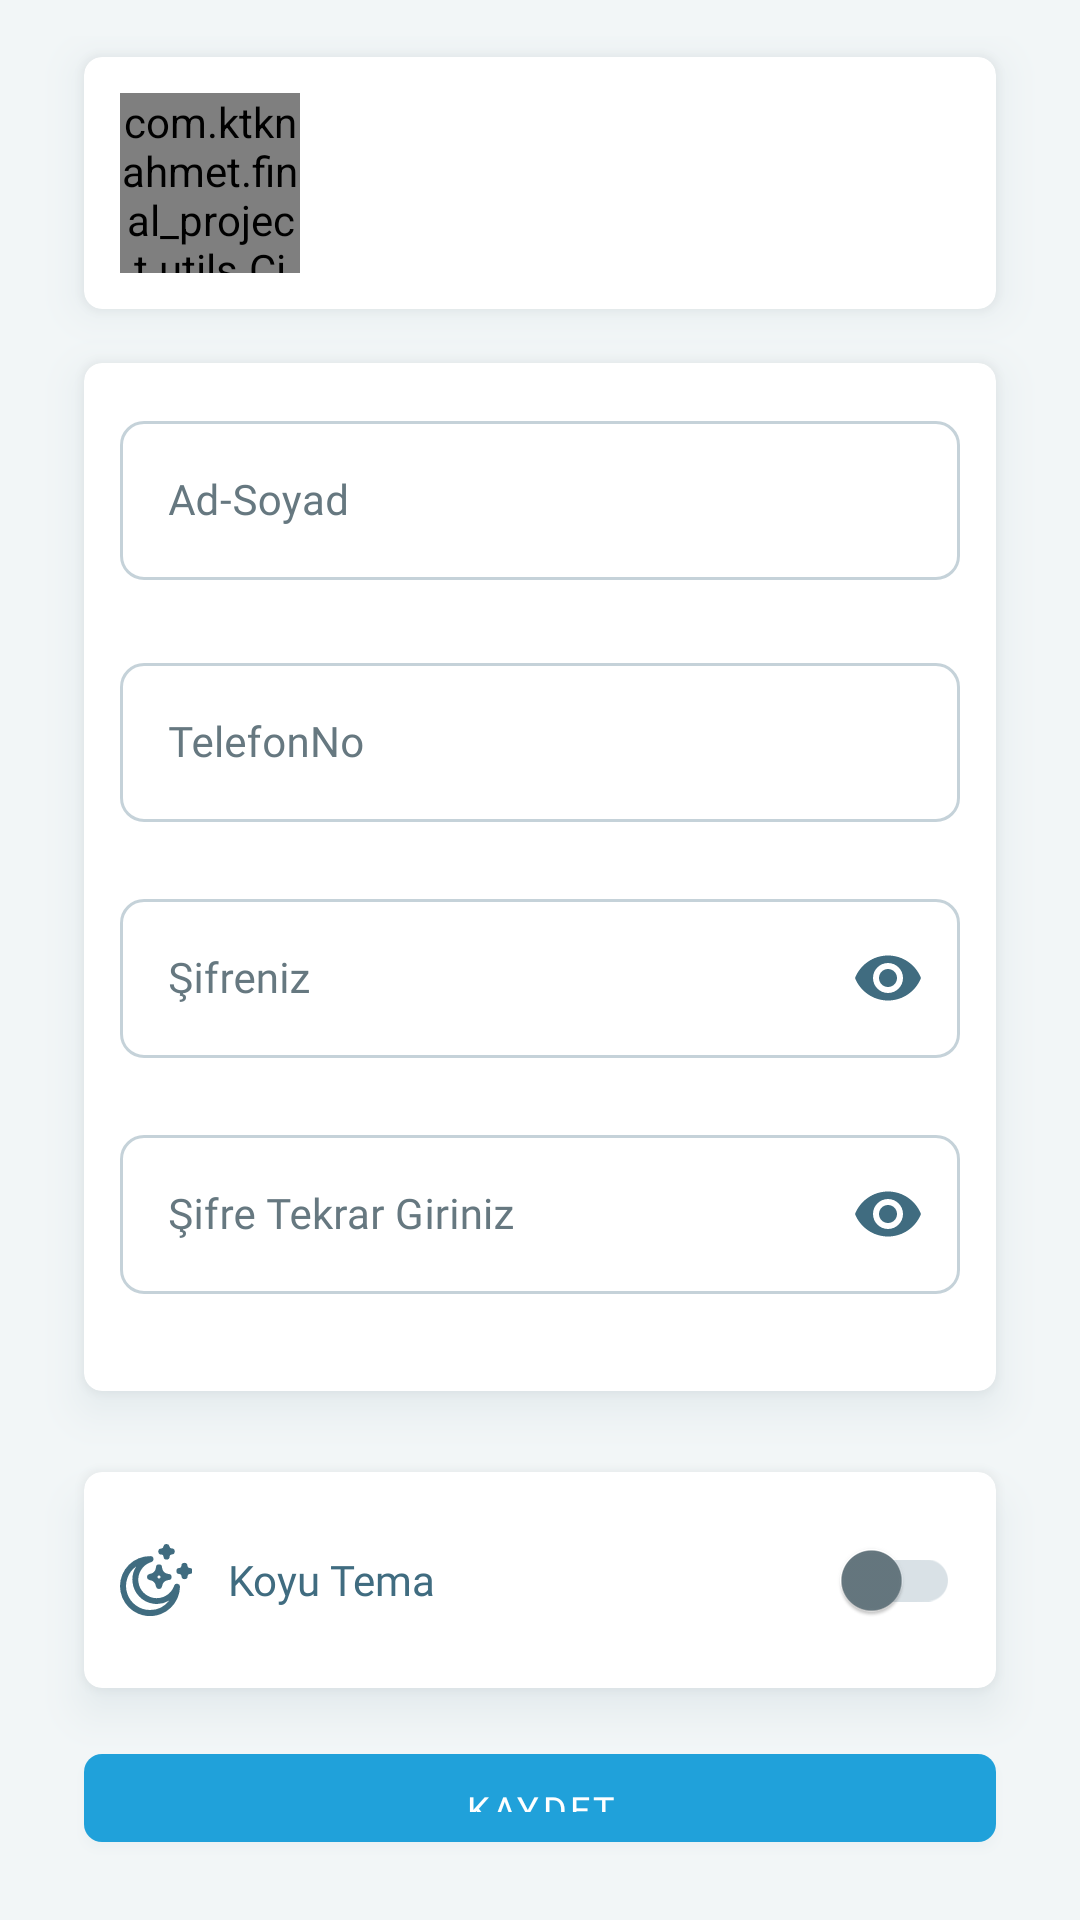

Icons on this 1080x1920 Android screen, each with its box as (x1, y1, x2, y2):
night: (120, 1544, 192, 1616)
